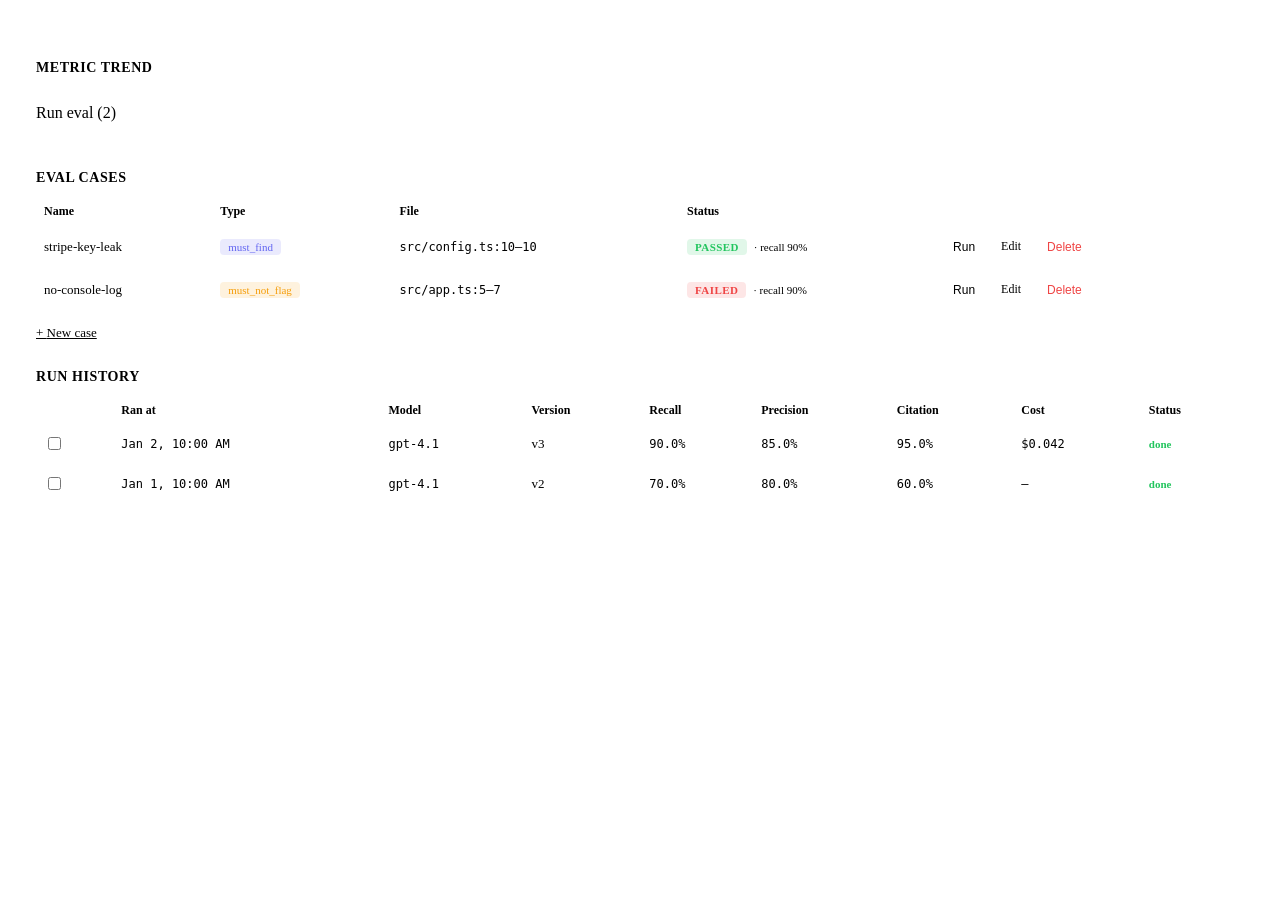
Test: EvalsTab — AC-26/27: compare view › shows CompareView with signed deltas after selecting two done runs
The width and height of the screenshot is (1280, 900).
Step 1. Click the checkbox named "Compare batch1" → (54, 444), box [48, 437, 61, 450]
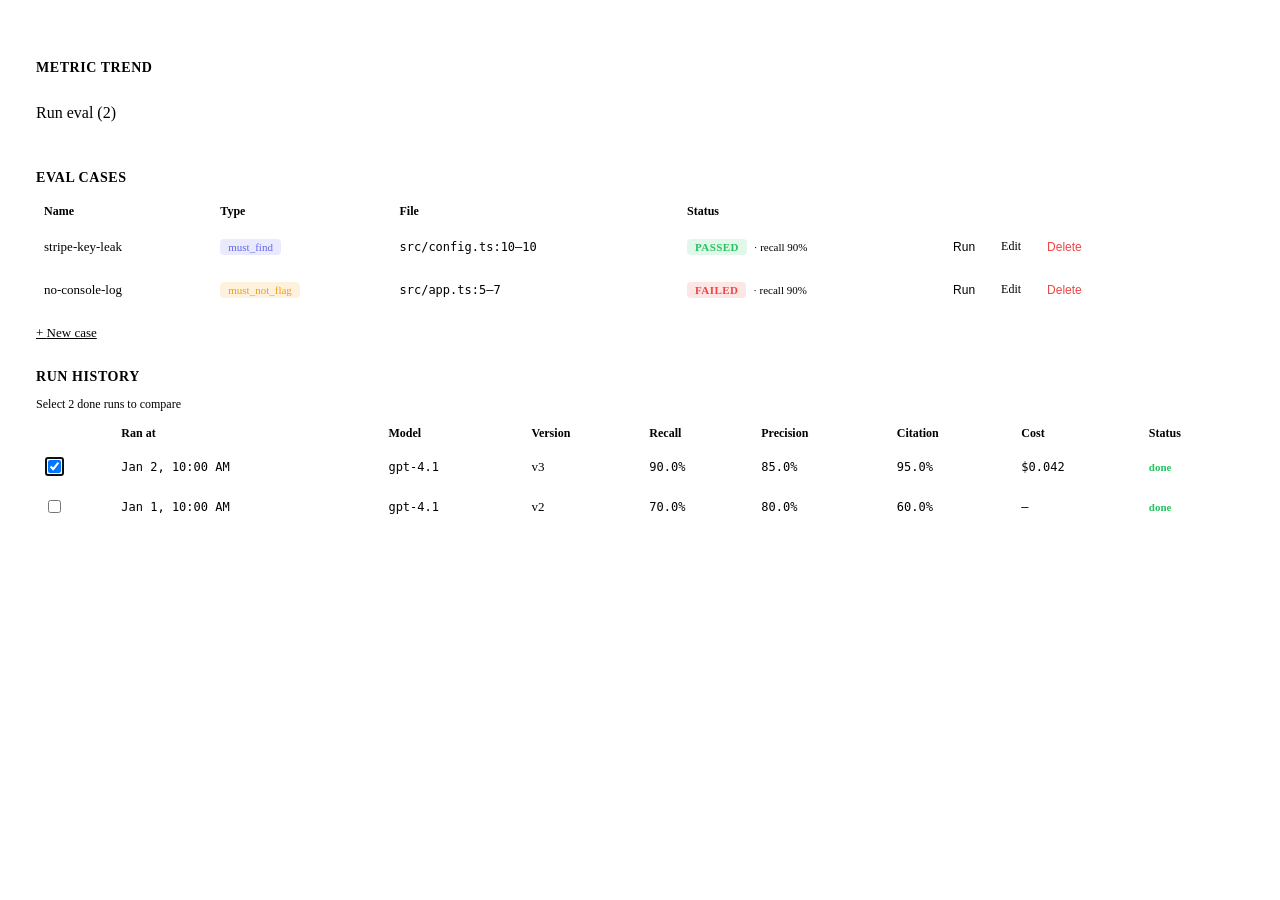
Step 2. Click the checkbox named "Compare batch2" → (54, 506), box [48, 500, 61, 513]
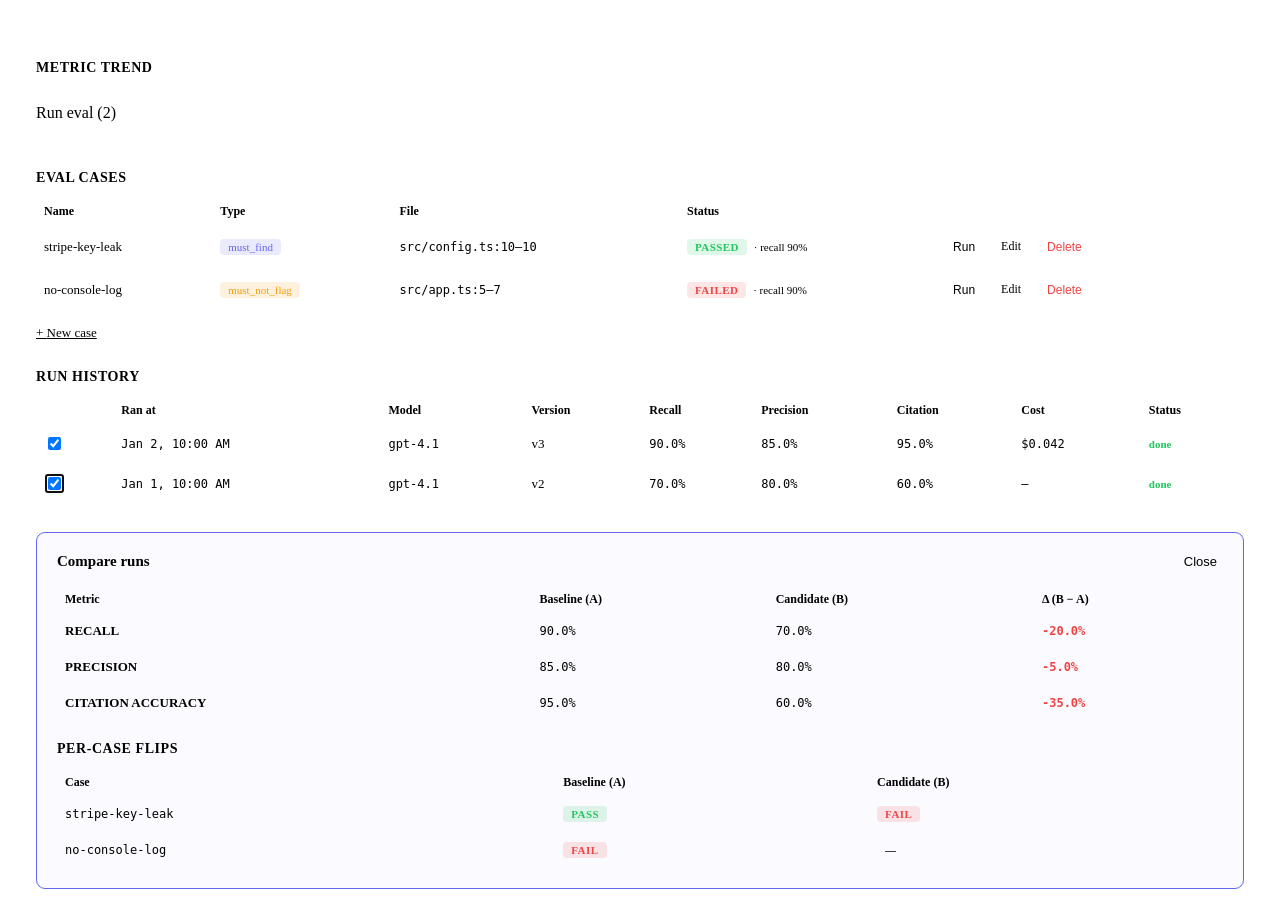
expect the element with test id "compare-view" is shown: met, box [36, 532, 1244, 889]
